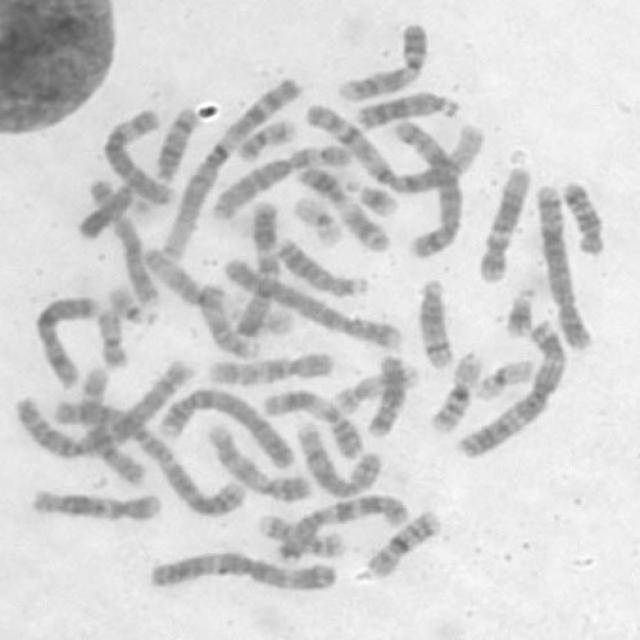A1: (152, 69, 302, 262), (300, 96, 491, 196)
A2: (45, 386, 250, 518), (9, 352, 195, 459)
A3: (451, 313, 571, 459), (141, 546, 341, 595)
B4: (216, 252, 406, 352), (152, 380, 302, 471)
B5: (527, 176, 594, 352), (387, 114, 463, 262)
C10: (72, 362, 149, 488), (201, 346, 335, 386)
C11: (292, 160, 394, 254), (258, 383, 368, 460)
C12: (471, 158, 532, 284), (23, 482, 163, 524)
C6: (209, 140, 351, 220), (98, 102, 178, 206)
C7: (266, 488, 412, 564), (232, 194, 281, 340)
C8: (78, 172, 162, 309), (291, 416, 386, 498)
C9: (203, 418, 313, 502), (330, 14, 430, 102)
D13: (270, 232, 370, 298), (352, 86, 466, 133)
D14: (412, 272, 459, 371), (150, 101, 200, 182)
D15: (194, 280, 264, 361), (138, 243, 212, 309)
E16: (359, 503, 444, 581), (426, 345, 485, 435)
E17: (327, 358, 422, 418), (251, 508, 349, 560)
E18: (361, 348, 409, 440), (556, 173, 606, 256)
F19: (288, 188, 348, 249), (468, 353, 536, 402)
F20: (231, 112, 297, 163), (92, 300, 131, 370)
G21: (345, 175, 401, 219), (499, 279, 540, 339)
G22: (103, 282, 160, 328), (247, 309, 306, 337)
X: (28, 289, 102, 390)
Y: (72, 178, 138, 242)
